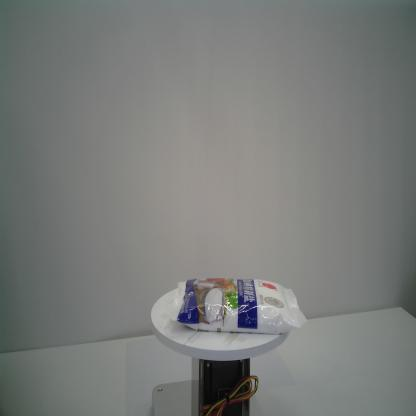Seasoner: (169, 276, 308, 335)
